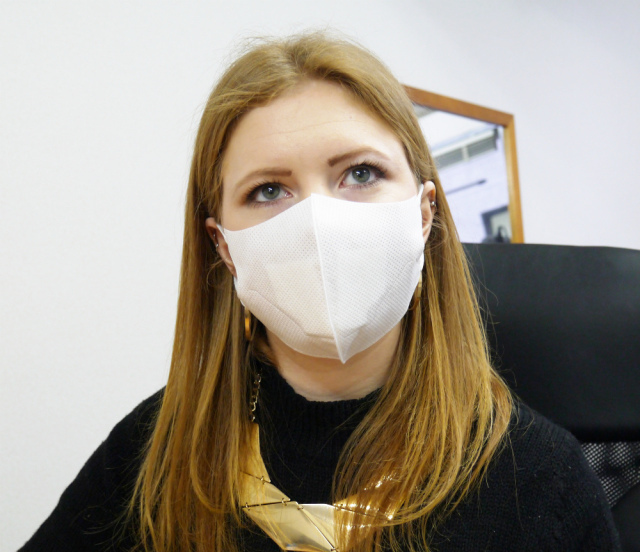mask: (239, 223, 425, 341)
